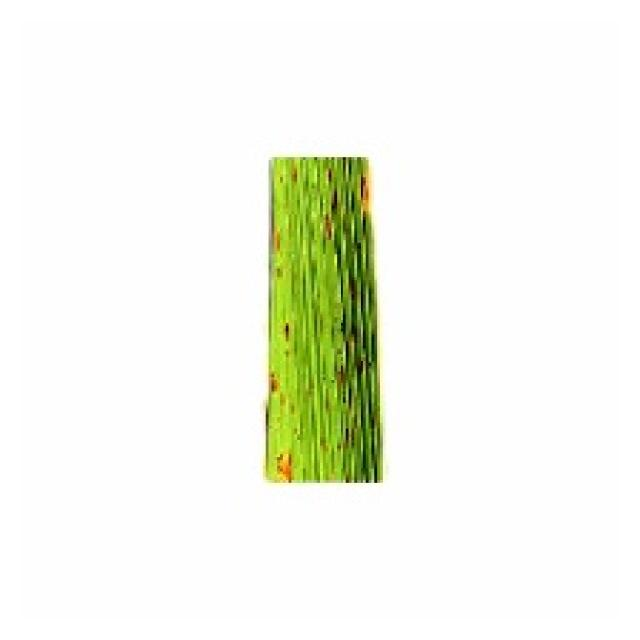Unhealthy: (273, 453, 293, 483), (269, 217, 281, 261), (359, 170, 371, 213), (348, 271, 358, 303), (269, 372, 282, 394), (336, 364, 346, 392), (325, 213, 332, 242), (330, 189, 338, 214), (291, 165, 298, 185), (344, 428, 350, 449), (350, 428, 355, 450), (357, 359, 364, 374), (284, 321, 289, 341), (326, 167, 332, 181)
